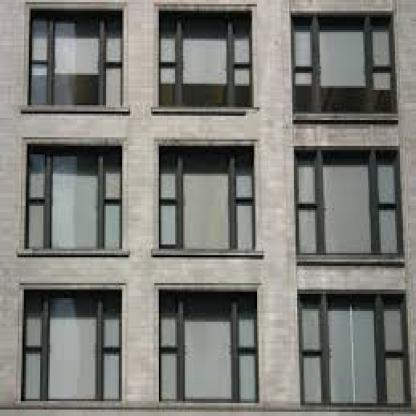window: (324, 152, 374, 253), (329, 300, 376, 403), (51, 296, 95, 397), (186, 302, 230, 397), (320, 21, 364, 112), (186, 156, 230, 246), (53, 19, 98, 105), (183, 19, 227, 105), (54, 152, 94, 244)
